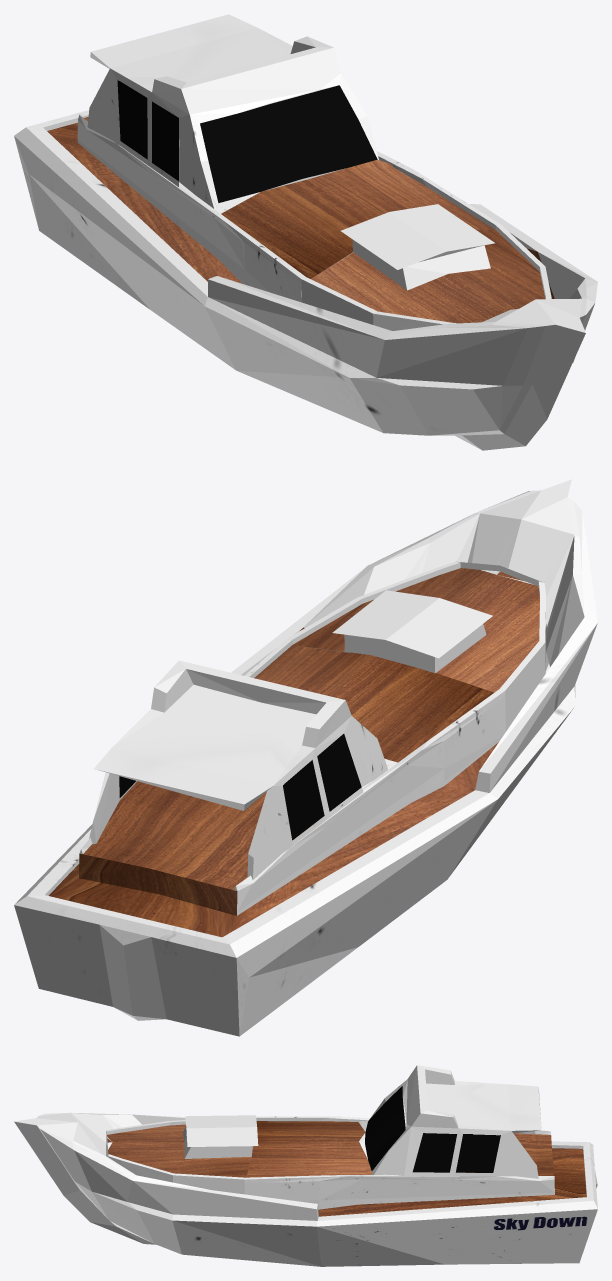
File: Boat_1.fbx
3 renders of one model, top to bottom at view 1: azimuth 30°, elevation 25°; view 2: azimuth 150°, elevation 25°; view 3: azimuth 270°, elevation 25°, orthographic. The views are drawn at different scales.
Parts seen in each view (by area): view 1: Cube.014; view 2: Cube.014; view 3: Cube.014.
Part boxes in pixels (x1,y1,x2,y2): Cube.014: (14, 14, 597, 450); Cube.014: (14, 479, 597, 1036); Cube.014: (14, 1065, 597, 1266).
Size of the model in its own units: 413 by 340 by 1112.
